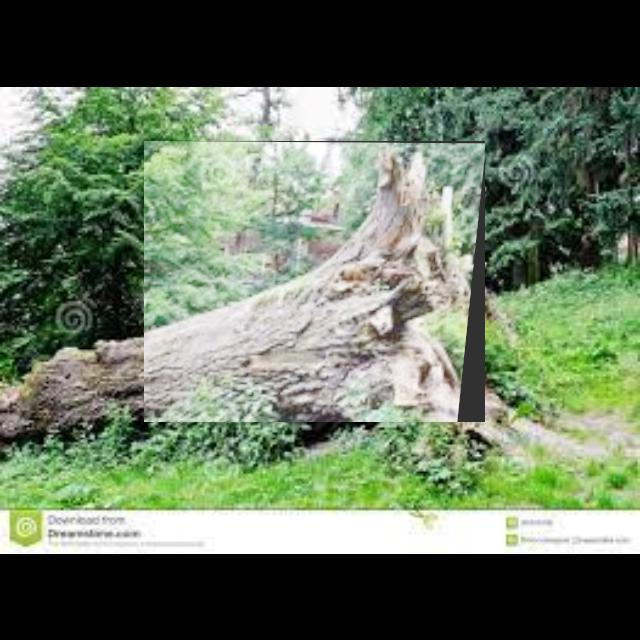Fallen Tree: (144, 141, 486, 423)
